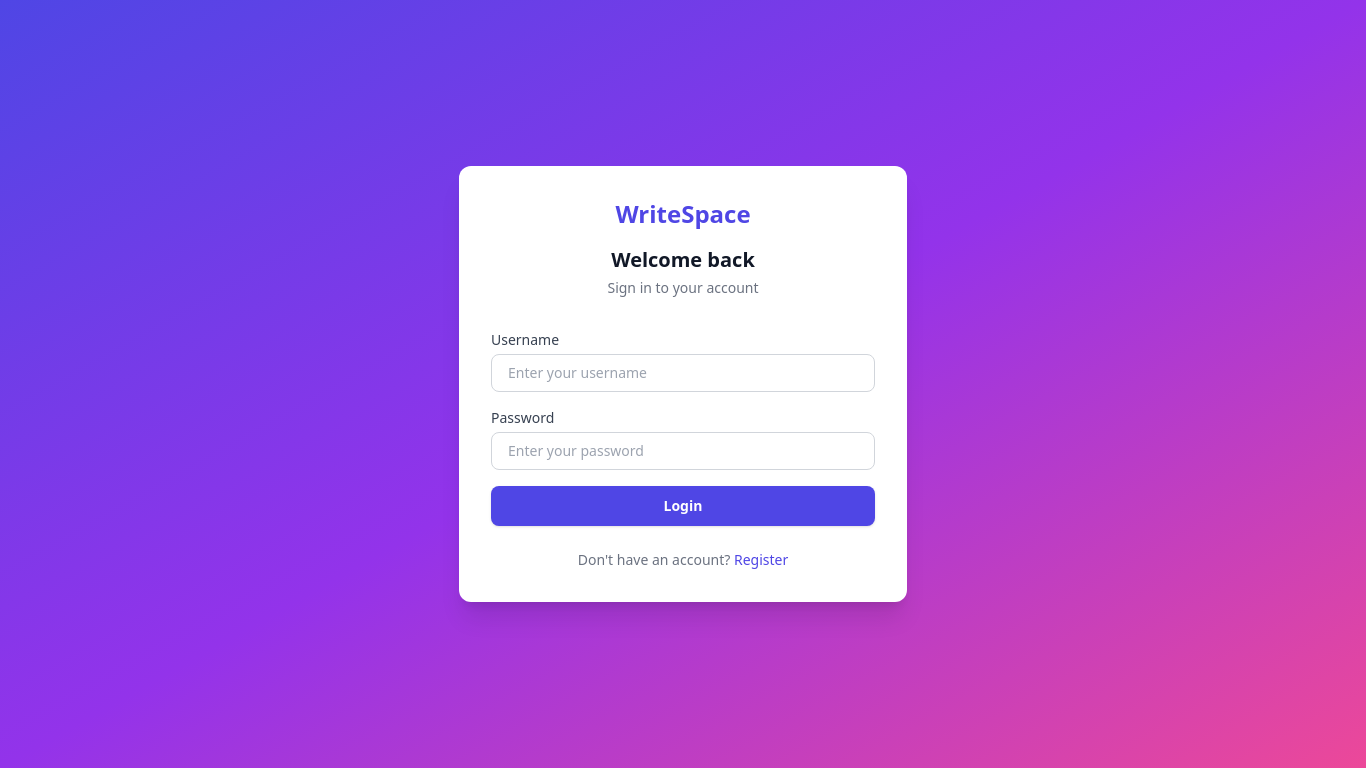
it: LoginPage › failed login › displays generic error message when no error string is provided
In the field labelled "Username": (683, 373) [491,354,875,392], type "user"
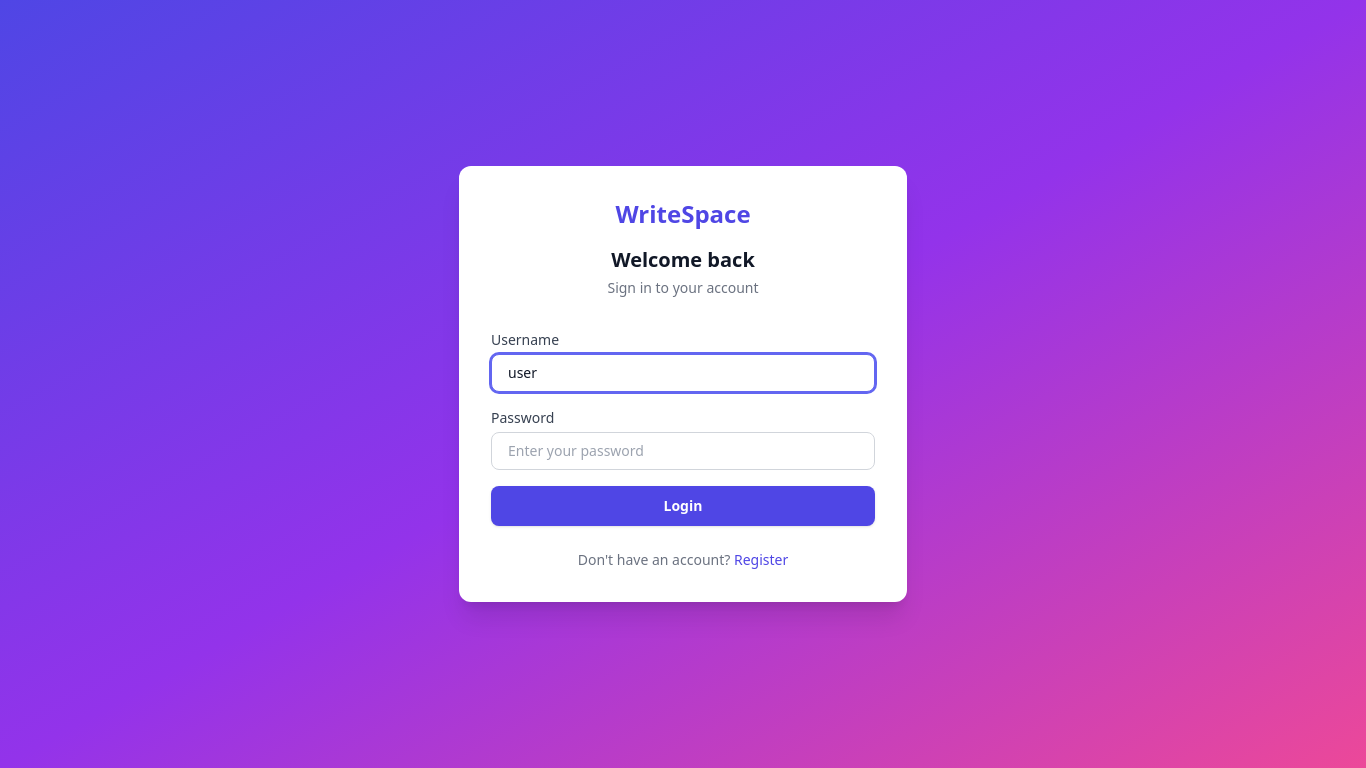
In the password field labelled "Password": (683, 451) [491,432,875,470], type "pass"
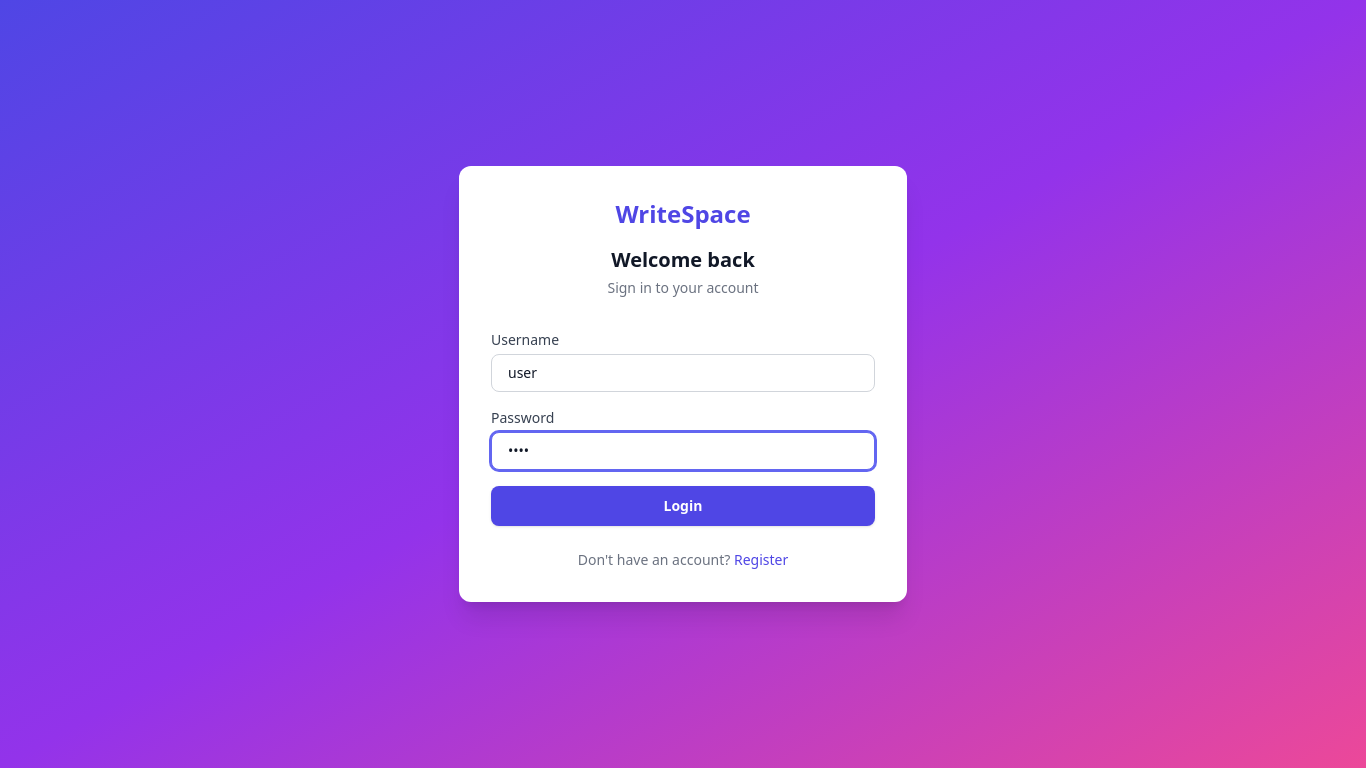
Click the button "Login": (683, 506) [491,486,875,526]
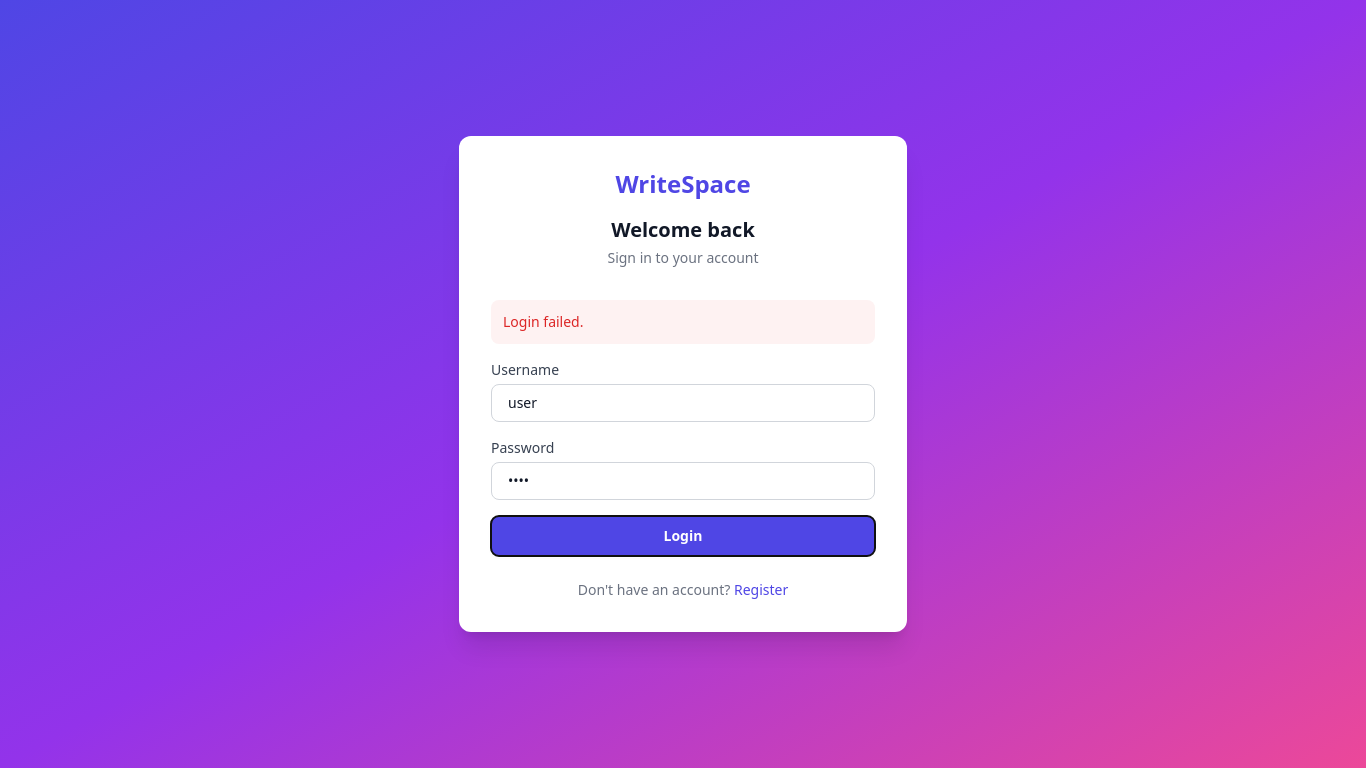
expect the text "Login failed." is shown: met, box [491,300,875,344]
